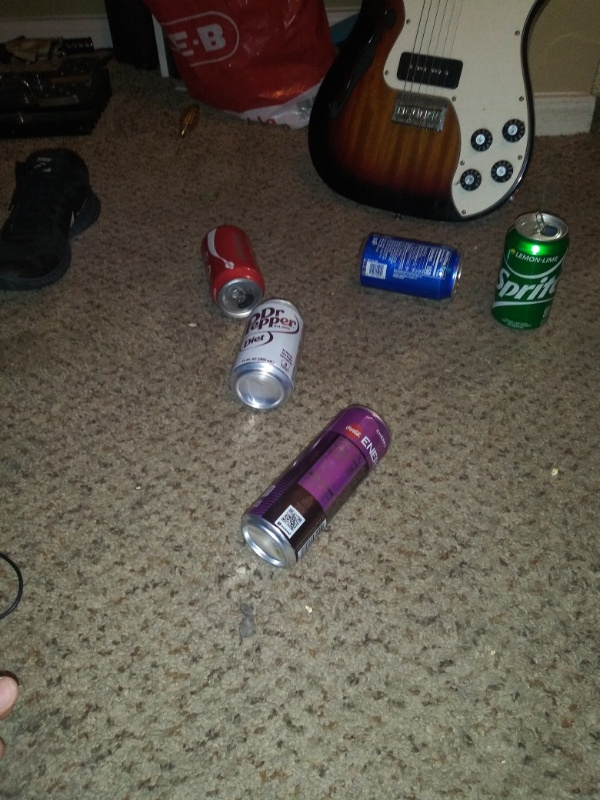can: (239, 404, 390, 573), (491, 208, 576, 338), (227, 296, 308, 415), (354, 229, 467, 305), (196, 222, 269, 318)
